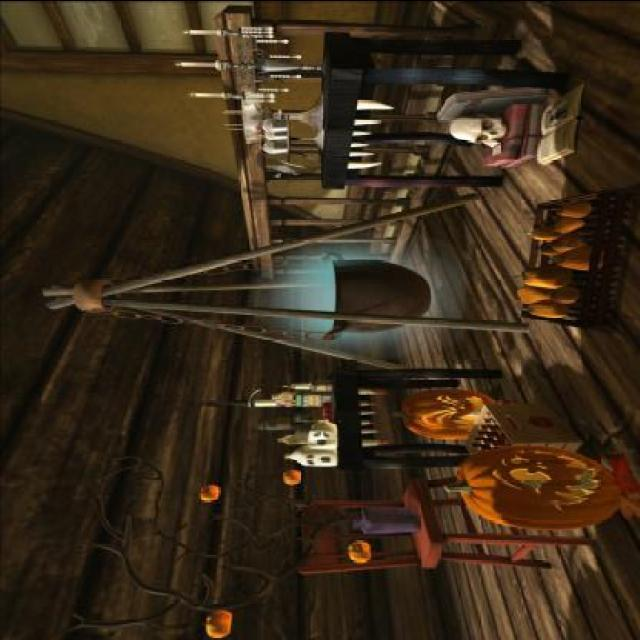Pumpkin: (437, 450, 620, 535), (508, 200, 606, 318), (388, 387, 496, 439), (201, 608, 233, 638), (338, 540, 372, 562), (197, 485, 220, 503), (280, 468, 303, 486)
